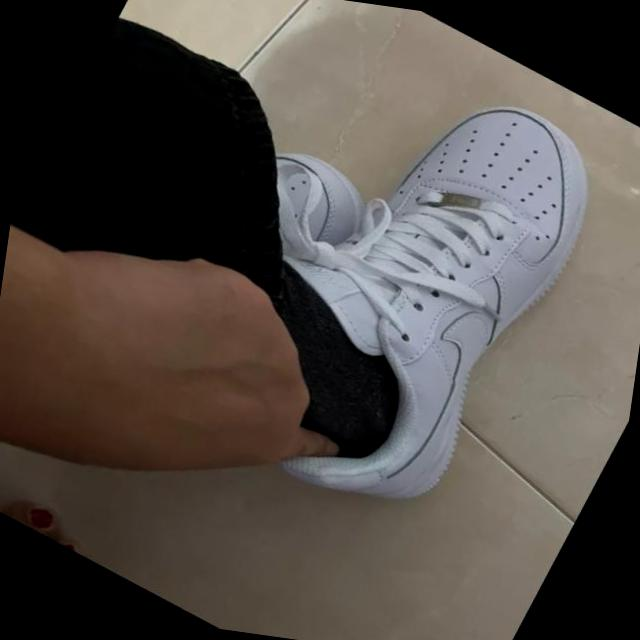nike_fake_airforce: (154, 8, 640, 579)
